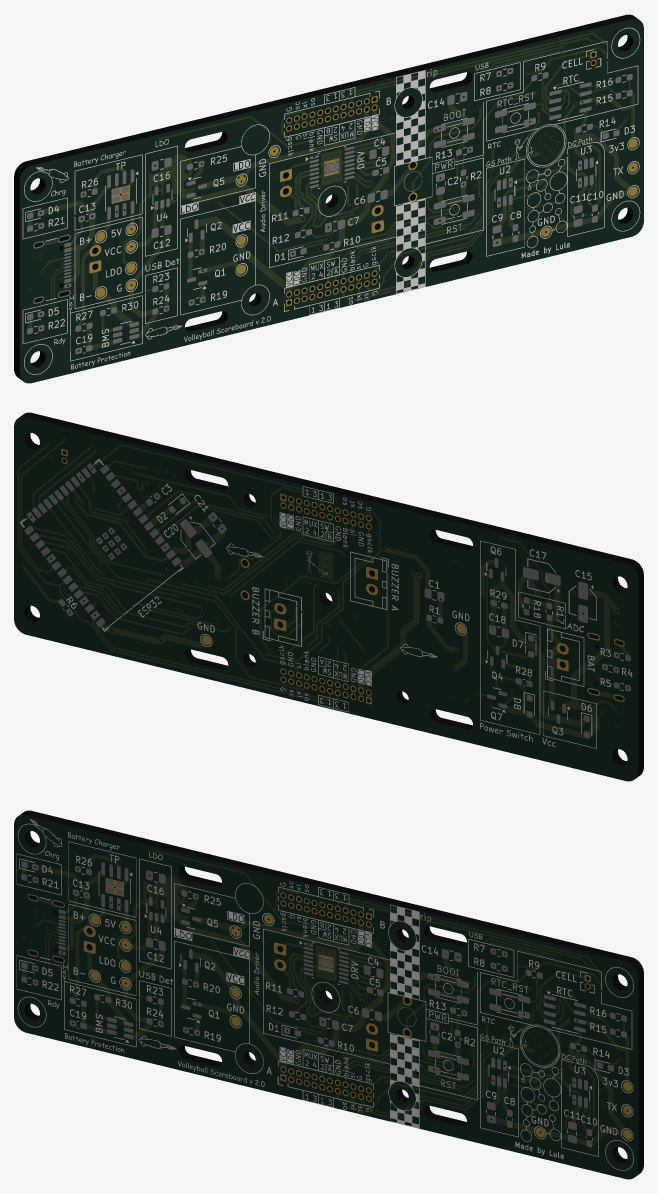
Rendered from main-board-v2.0-bare.glb.
The picture shows the model from 3 angles, top to bottom: view 1: azimuth 30°, elevation 25°; view 2: azimuth 150°, elevation 25°; view 3: azimuth 330°, elevation 25°; orthographic projection.
Parts seen in each view (by area): view 1: SHAPE_5, SHAPE_1, SHAPE_9, SHAPE_3, SHAPE_4; view 2: SHAPE_5, SHAPE_1, SHAPE_3, SHAPE_9, SHAPE_4; view 3: SHAPE_5, SHAPE_1, SHAPE_9, SHAPE_3, SHAPE_4.
Boxes of the visible parts, x1,y1,x2,y2 form: SHAPE_5: (19,18,643,383); SHAPE_1: (14,14,643,382); SHAPE_9: (22,27,640,374); SHAPE_3: (28,33,637,349); SHAPE_4: (27,67,632,354); SHAPE_5: (14,416,638,781); SHAPE_1: (14,412,643,780); SHAPE_3: (18,439,629,750); SHAPE_9: (20,458,632,748); SHAPE_4: (24,463,630,738); SHAPE_5: (14,814,638,1179); SHAPE_1: (14,810,643,1178); SHAPE_9: (16,819,633,1170); SHAPE_3: (22,849,631,1144); SHAPE_4: (21,861,626,1147).
Bounding box in the file's own units: 0.102 × 0.034 × 0.00175.
